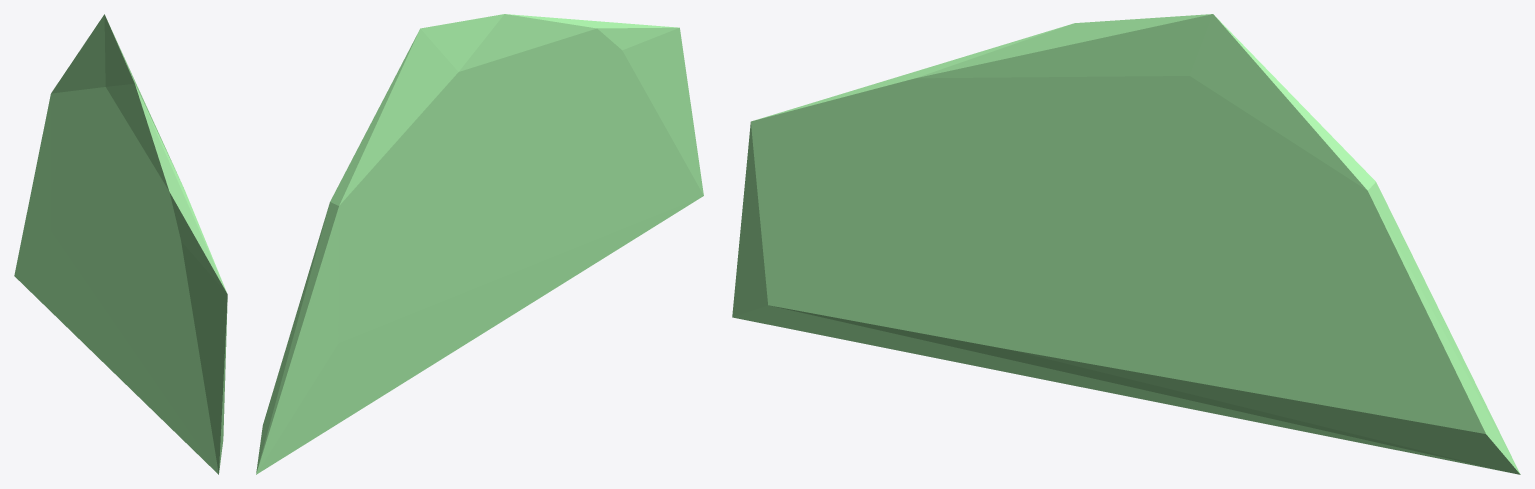
File: spatula_robot_base_coll_10.dae
3 renders of one model, left to right at view 1: azimuth 30°, elevation 25°; view 2: azimuth 150°, elevation 25°; view 3: azimuth 270°, elevation 25°, orthographic. The views are drawn at different scales.
Visible parts, largest first — view 1: Node_0x7fe6917b6bb0; view 2: Node_0x7fe6917b6bb0; view 3: Node_0x7fe6917b6bb0.
Part boxes in pixels (box(x1,y1,x2,y2)): Node_0x7fe6917b6bb0: box(14, 14, 227, 474); Node_0x7fe6917b6bb0: box(256, 14, 703, 474); Node_0x7fe6917b6bb0: box(732, 14, 1520, 474).
Bounding box in the file's own units: 0.0241 × 0.0643 × 0.1046.
